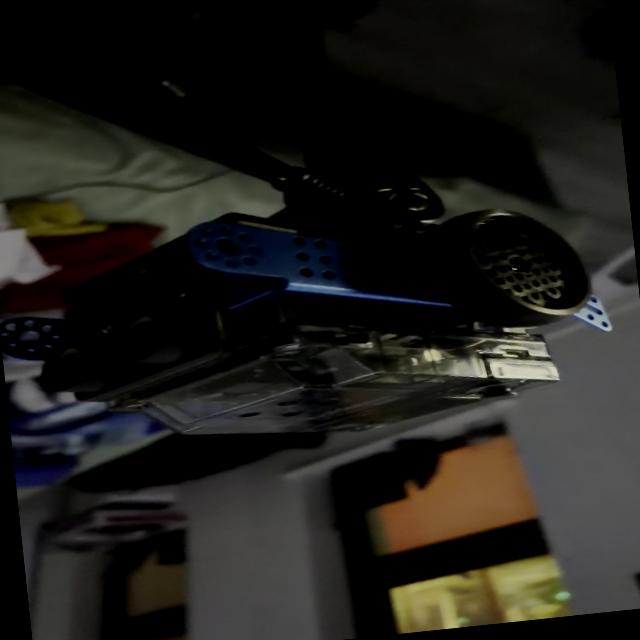mbot-detection: (0, 177, 630, 471)
